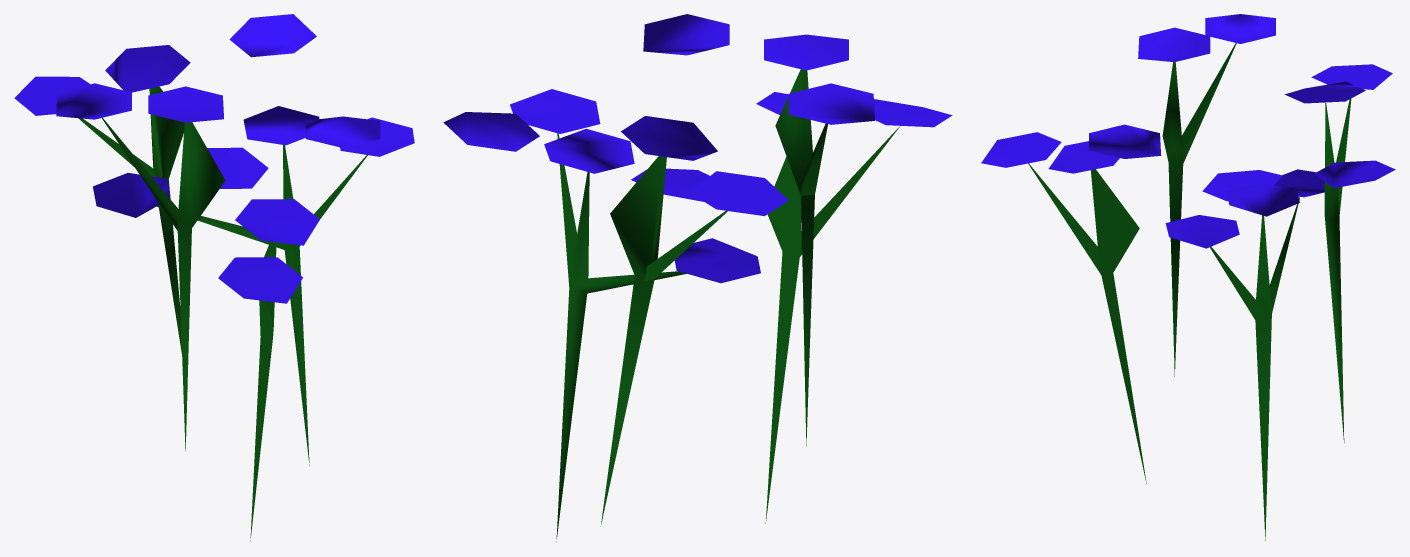
File: PurpleAster_LOD2.obj
3 renders of one model, left to right at view 1: azimuth 30°, elevation 25°; view 2: azimuth 150°, elevation 25°; view 3: azimuth 270°, elevation 25°, orthographic. The views are drawn at different scales.
Visible parts, largest first — view 1: PurpleAster_LOD2; view 2: PurpleAster_LOD2; view 3: PurpleAster_LOD2.
Boxes of the visible parts, <box> form: PurpleAster_LOD2: <box>14,14,414,541</box>; PurpleAster_LOD2: <box>443,14,952,541</box>; PurpleAster_LOD2: <box>981,14,1395,540</box>.
Size of the model in its own units: 24.17 by 30.03 by 26.96.
